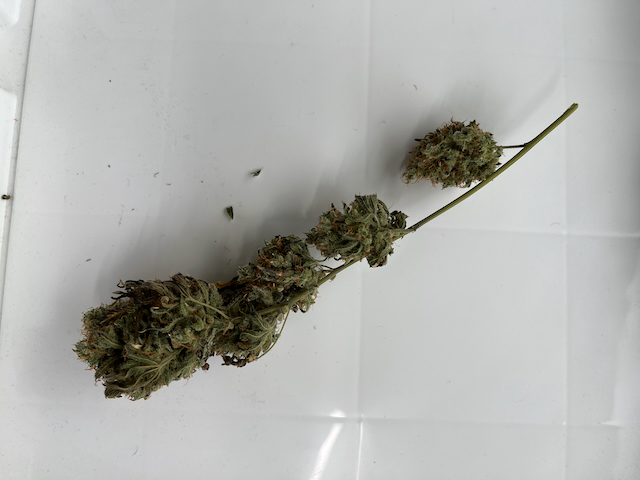Bud: (400, 118, 505, 189), (235, 235, 328, 314), (310, 197, 404, 270), (223, 314, 233, 320)
Leaf: (240, 331, 263, 340), (159, 296, 176, 307), (254, 316, 266, 330)
Leaf-Attachment: (74, 273, 228, 399), (185, 294, 224, 317), (147, 356, 168, 376), (266, 322, 275, 334)
Stem: (404, 176, 492, 240), (520, 98, 583, 160), (322, 252, 362, 284), (495, 149, 528, 168), (279, 302, 291, 330), (500, 140, 521, 153)
